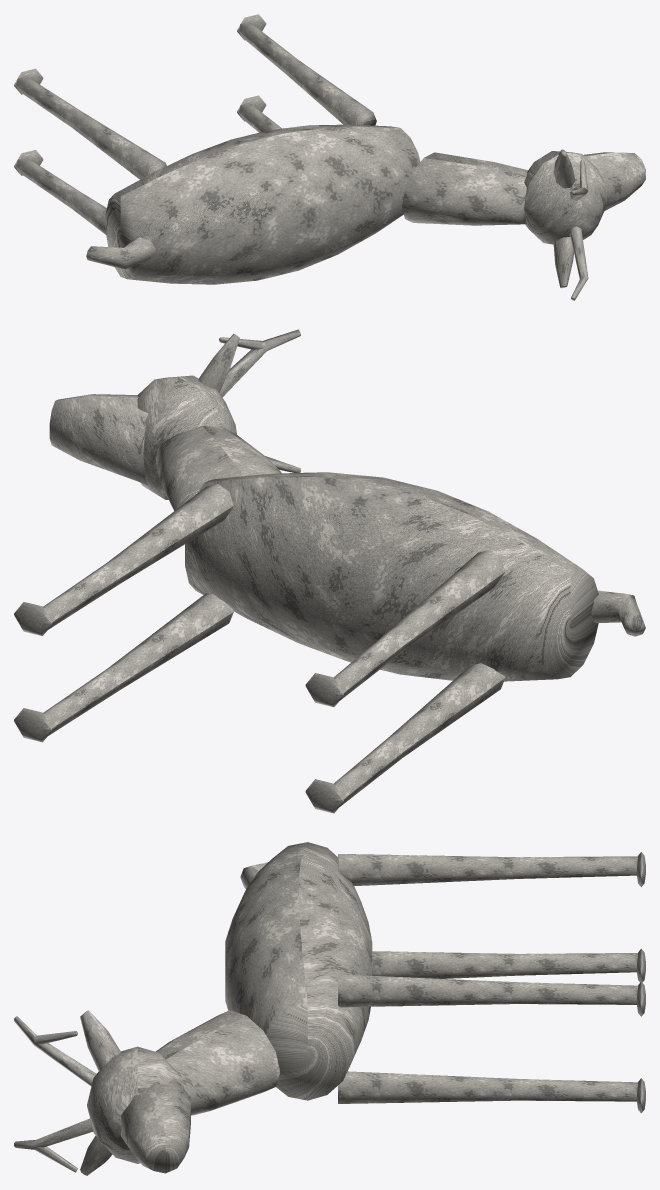
File: deer.obj
3 views of the same model, one above another, from view 1: azimuth 30°, elevation 25°; view 2: azimuth 150°, elevation 25°; view 3: azimuth 270°, elevation 25° (orthographic). The views are drawn at different scales.
Parts seen in each view (by area): view 1: deer; view 2: deer; view 3: deer.
Boxes of the visible parts, box(x1,y1,x2,y2) form: deer: box(14, 14, 645, 300); deer: box(14, 329, 645, 813); deer: box(14, 842, 645, 1175).
Bounding box in the file's own units: 1.48 × 0.3887 × 1.35.
1 material, 1 textured.
